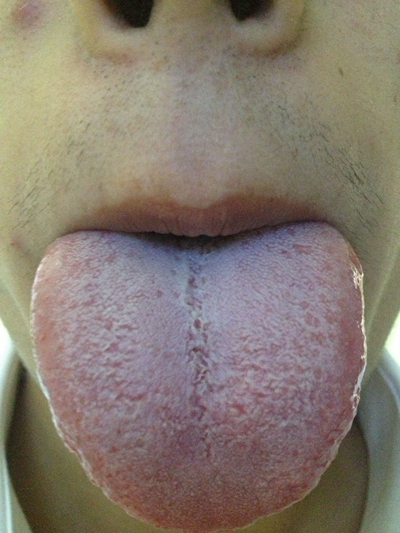baitaishe: (31, 221, 366, 533)
liewenshe: (176, 274, 222, 450)
